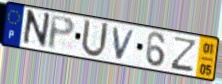6: (144, 31, 168, 70)
N: (20, 9, 52, 51)
P: (47, 14, 77, 52)
U: (79, 17, 110, 60)
V: (111, 26, 138, 62)
Z: (169, 35, 199, 74)
